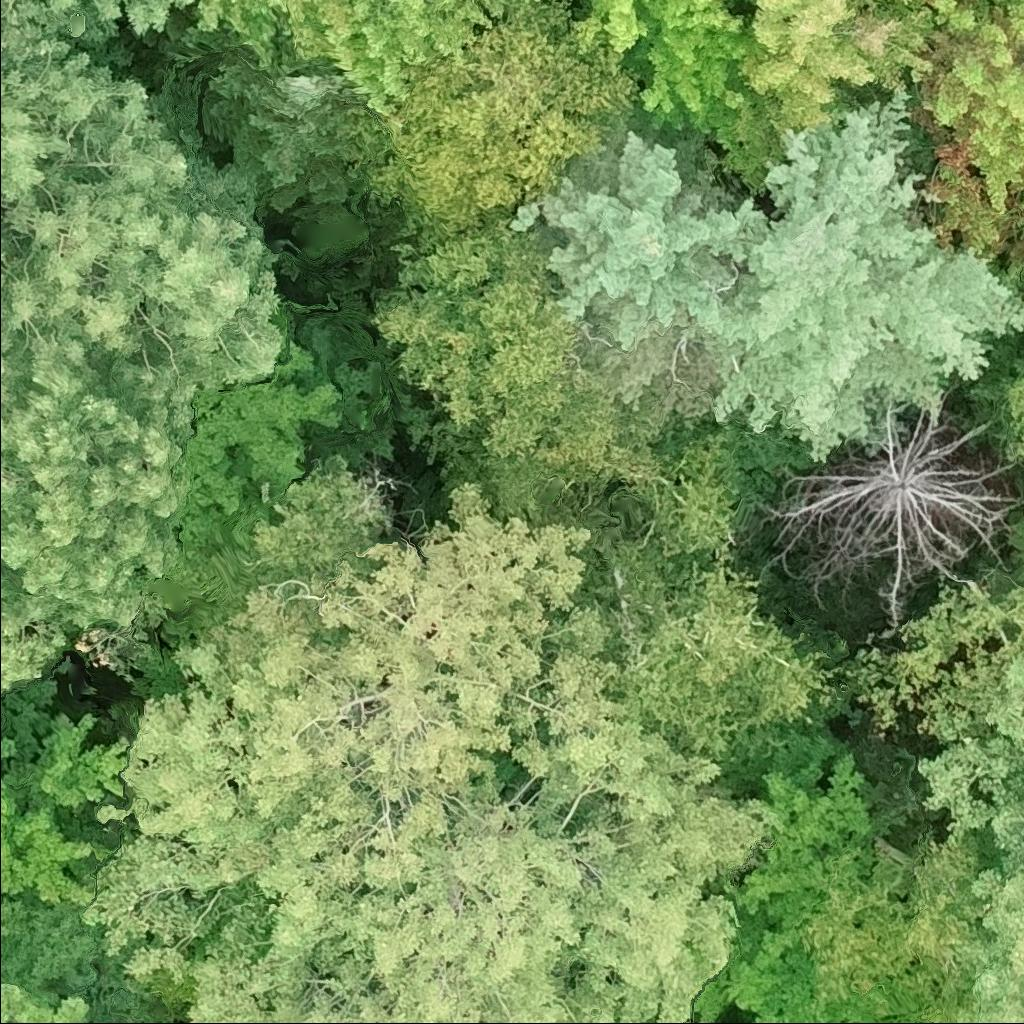crown: (73, 472, 784, 1023), (696, 76, 1023, 463), (0, 0, 281, 381), (367, 213, 677, 530), (582, 422, 851, 770), (0, 333, 229, 698), (689, 724, 931, 1023), (503, 116, 765, 358), (761, 400, 1023, 632), (704, 0, 936, 194), (150, 17, 362, 215), (917, 659, 1023, 1023), (192, 0, 513, 118), (0, 696, 133, 949), (855, 569, 1023, 744), (909, 0, 1023, 255), (570, 0, 763, 134), (46, 0, 195, 44), (981, 358, 1023, 462), (0, 982, 94, 1023), (1022, 463, 1023, 465)
